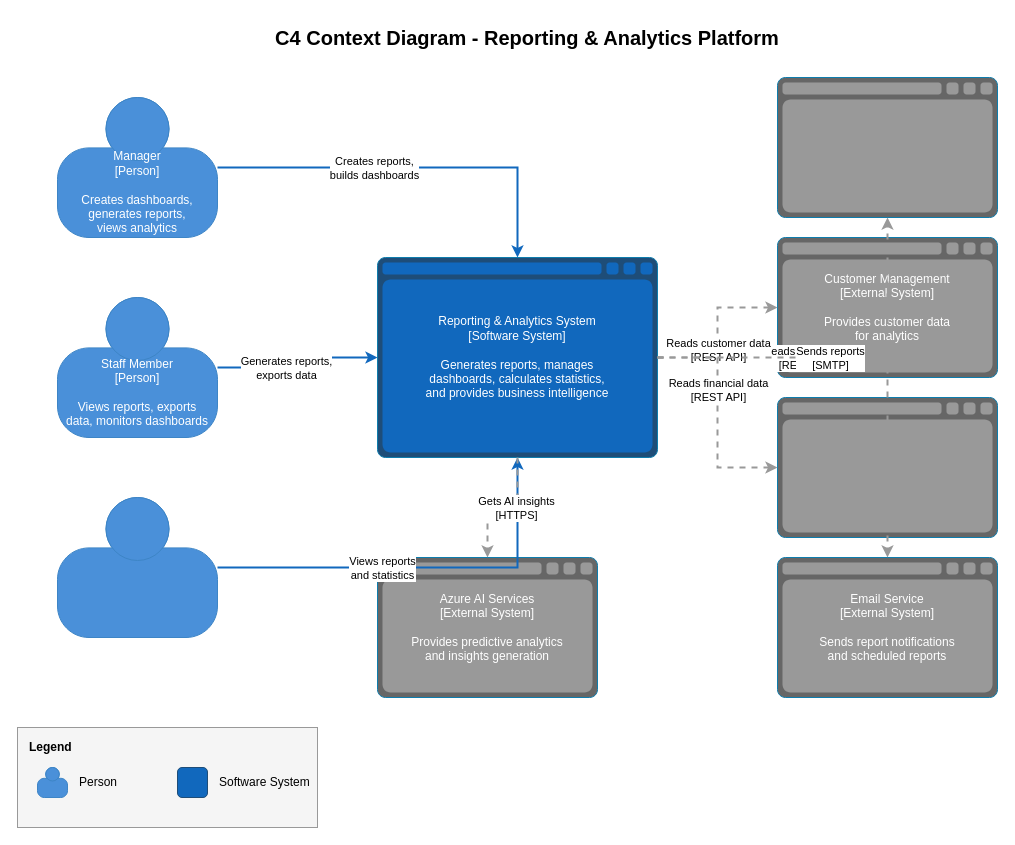
The diagram is 1015 pixels wide and 845 high, and some of its shapes have lost their labels. Here are the shapes that lost their labels. From the top down, the box of each, then its label:
(776, 76, 998, 218): Event Management System [External System] Provides event data for reports
(776, 396, 998, 538): Invoice Management [External System] Provides revenue and financial data
(56, 496, 218, 638): Customer [Person] Views event reports and statistics
